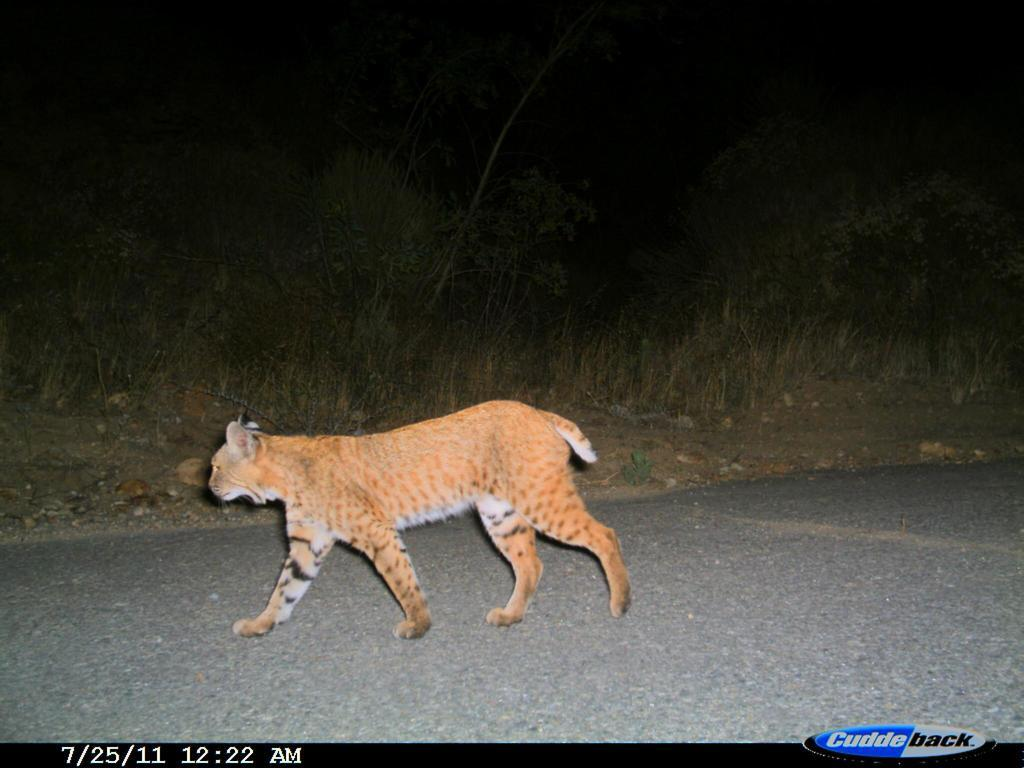bobcat: (203, 391, 642, 647)
